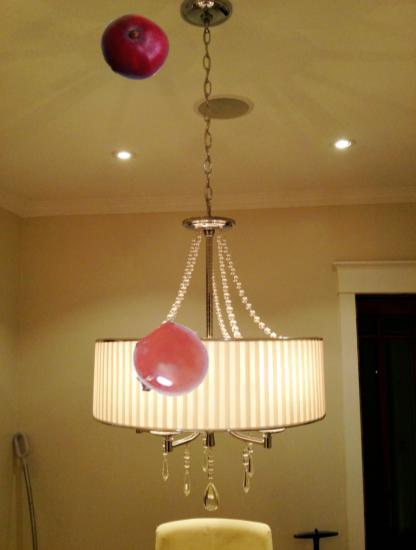Mango: (100, 12, 170, 82)
Redcurrant: (130, 322, 211, 403)
